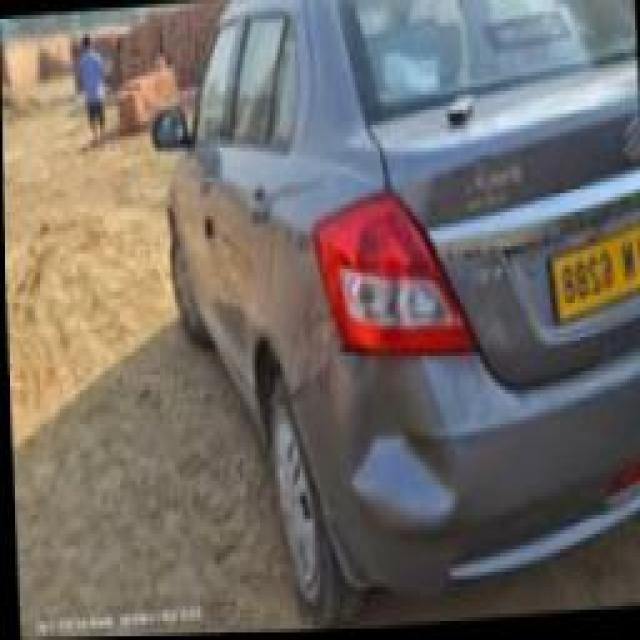Bumper: (287, 351, 590, 601)
